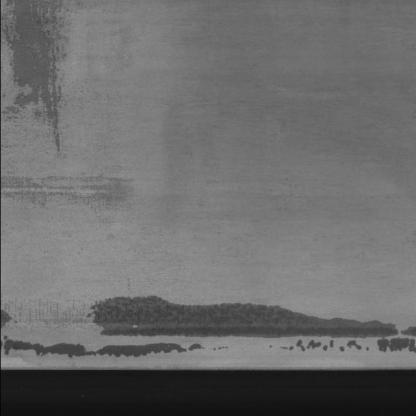oil_spot: (1, 290, 414, 362), (0, 8, 86, 146)
